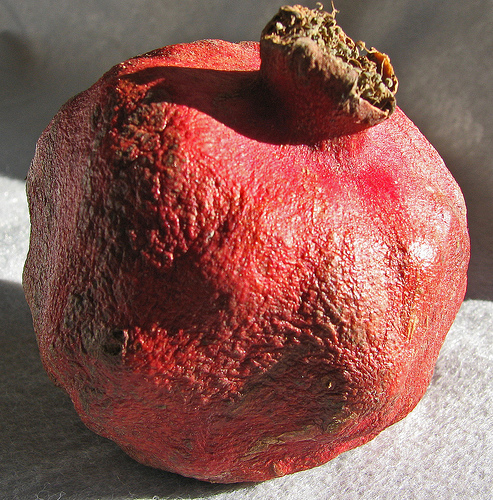pomogranate: (22, 7, 469, 481)
